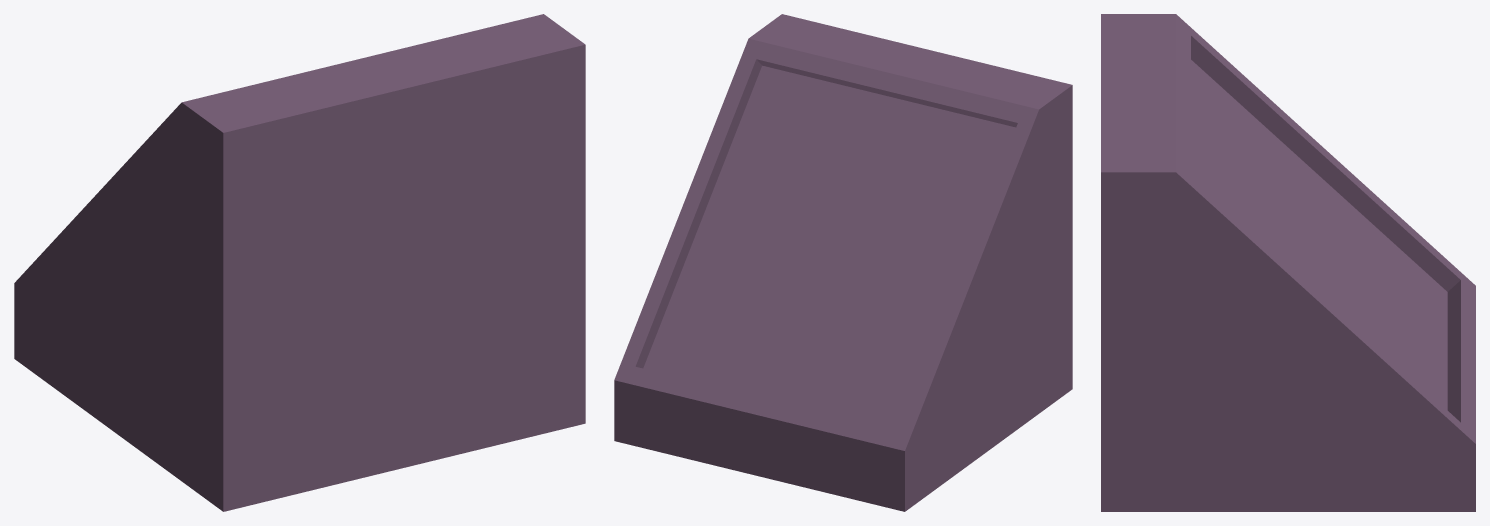
Rendered from computer.glb.
3 views of the same model, side by side, from view 1: azimuth 30°, elevation 25°; view 2: azimuth 150°, elevation 25°; view 3: azimuth 270°, elevation 25° (orthographic). The views are drawn at different scales.
Parts seen in each view (by area): view 1: computer; view 2: computer; view 3: computer.
Boxes of the visible parts, box(x1,y1,x2,y2) form: computer: box(14, 14, 585, 511); computer: box(614, 14, 1072, 511); computer: box(1101, 14, 1475, 511).
Bounding box in the file's own units: 1 × 1 × 1.
